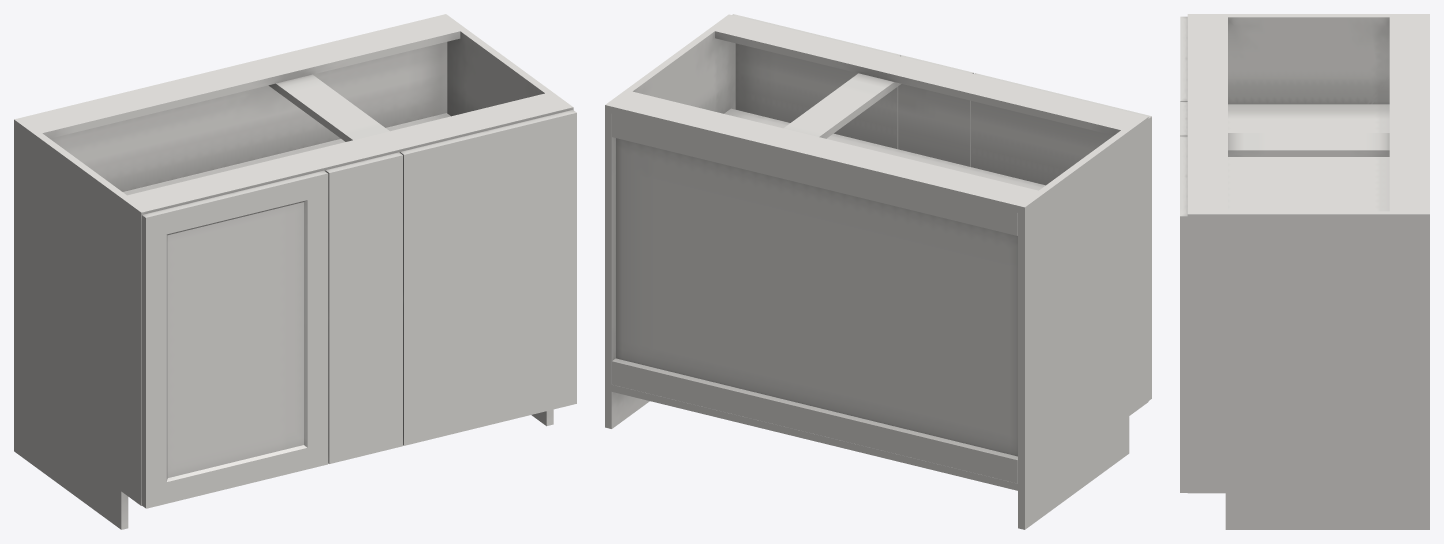
Rendered from blind-corner-base-doors-on.glb.
The picture shows the model from 3 angles, left to right: view 1: azimuth 30°, elevation 25°; view 2: azimuth 150°, elevation 25°; view 3: azimuth 270°, elevation 25°; orthographic projection. The views are drawn at different scales.
Parts seen in each view (by area): view 1: part_0, part_11; view 2: part_0, part_11; view 3: part_0, part_11.
Boxes of the visible parts, bbox=[...] form: part_0: bbox=[14, 14, 576, 529]; part_11: bbox=[142, 152, 402, 508]; part_0: bbox=[605, 14, 1148, 529]; part_11: bbox=[898, 55, 1151, 400]; part_0: bbox=[1180, 14, 1429, 529]; part_11: bbox=[1180, 16, 1187, 136].
Size of the model in its own units: 1.19 by 0.8763 by 0.6289.
2 materials, 2 textured.
